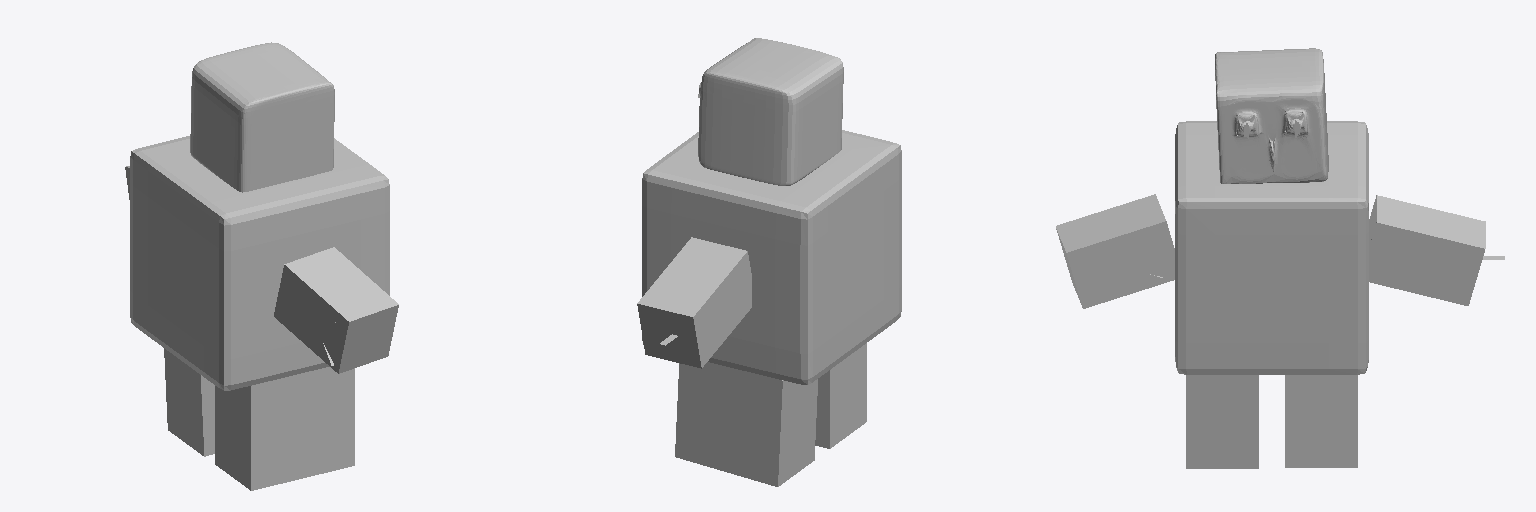
The picture shows the model from 3 angles: view 1: azimuth 30°, elevation 25°; view 2: azimuth 150°, elevation 25°; view 3: azimuth 270°, elevation 25°; orthographic projection.
Parts seen in each view (by area): view 1: Cube_Cube.001, Cube.001_Cube.002, CollisionLL_Cube.003, Cube.005_Cube.007, Cube.003_Cube.004; view 2: Cube_Cube.001, Cube.001_Cube.002, Cube.003_Cube.004, Cube.004_Cube.005, CollisionLL_Cube.003; view 3: Cube_Cube.001, Cube.001_Cube.002, Cube.004_Cube.005, Cube.005_Cube.007, CollisionLL_Cube.003, Cube.003_Cube.004.
Part boxes in pixels (x1,y1,x2,y2): Cube_Cube.001: (130, 136, 389, 390); Cube.001_Cube.002: (190, 42, 334, 192); CollisionLL_Cube.003: (215, 367, 354, 490); Cube.005_Cube.007: (274, 247, 398, 373); Cube.003_Cube.004: (164, 348, 214, 456); Cube_Cube.001: (642, 130, 901, 384); Cube.001_Cube.002: (698, 38, 843, 185); Cube.003_Cube.004: (675, 362, 817, 486); Cube.004_Cube.005: (637, 237, 751, 368); CollisionLL_Cube.003: (815, 343, 866, 448); Cube_Cube.001: (1175, 121, 1368, 374); Cube.001_Cube.002: (1215, 48, 1328, 183); Cube.004_Cube.005: (1369, 195, 1485, 305); Cube.005_Cube.007: (1056, 194, 1174, 308); CollisionLL_Cube.003: (1186, 375, 1258, 468); Cube.003_Cube.004: (1285, 375, 1357, 467).
Bounding box in the file's own units: 1.46 × 3.16 × 3.37.